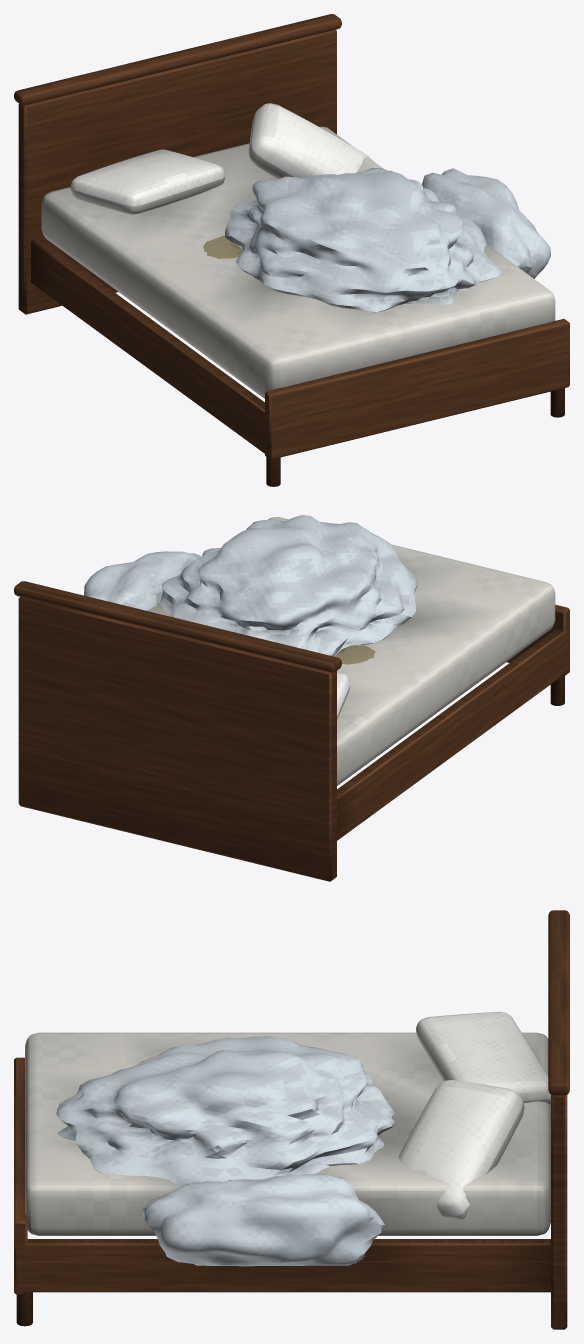
Rendered from bed_unmade.glb.
The picture shows the model from 3 angles, top to bottom: view 1: azimuth 30°, elevation 25°; view 2: azimuth 150°, elevation 25°; view 3: azimuth 270°, elevation 25°; orthographic projection. The views are drawn at different scales.
Parts seen in each view (by area): view 1: body; view 2: body; view 3: body.
Part boxes in pixels (bbox=[...]): body: bbox=[14, 14, 569, 486]; body: bbox=[14, 515, 569, 881]; body: bbox=[14, 910, 569, 1329].
Size of what is drawn, in the model's own units: 1.8 by 1.01 by 2.05.
Materials: 6 (5 with a texture image).
